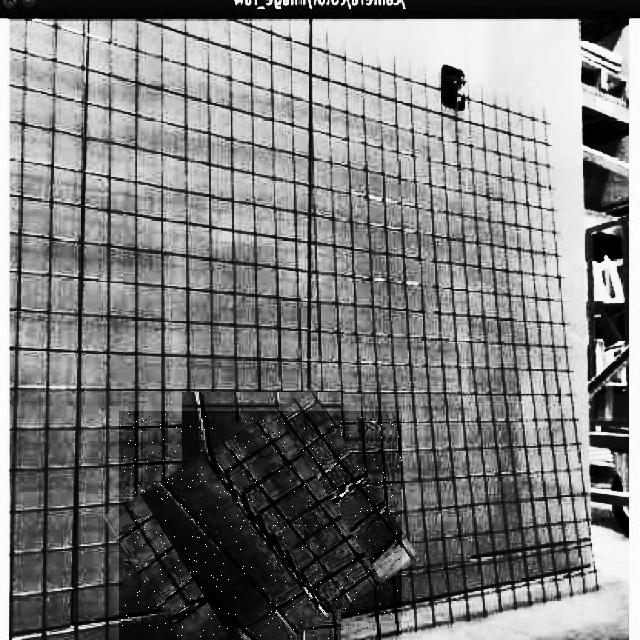anomaly-fence: (119, 411, 402, 640)
